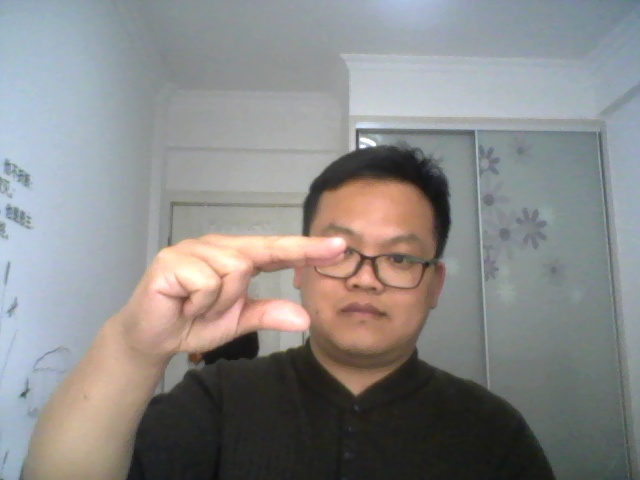No: (110, 227, 355, 357)
